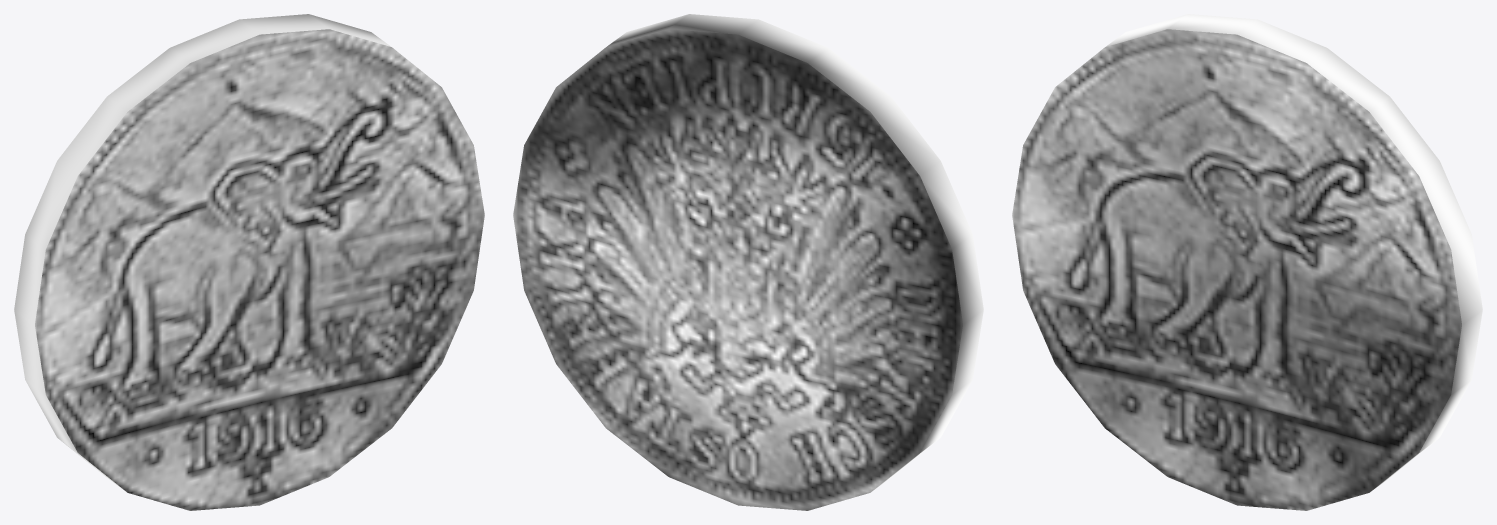
The model's file is Coin.obj.
3 views of the same model, side by side, from view 1: azimuth 30°, elevation 25°; view 2: azimuth 150°, elevation 25°; view 3: azimuth 330°, elevation 25° (orthographic).
Parts seen in each view (by area): view 1: pCylinder1; view 2: pCylinder1; view 3: pCylinder1.
Boxes of the visible parts, left/top/right/bottom form: pCylinder1: left=14, top=14, right=484, bottom=510; pCylinder1: left=513, top=14, right=983, bottom=510; pCylinder1: left=1012, top=14, right=1482, bottom=510.
Bounding box in the file's own units: 458 × 458 × 36.54.
